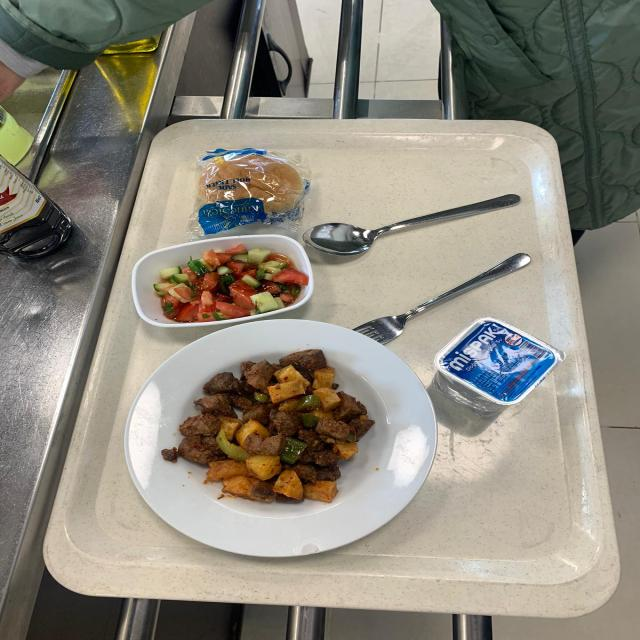ana_yemek: (152, 335, 411, 542)
yan_yemek: (131, 237, 313, 332)
